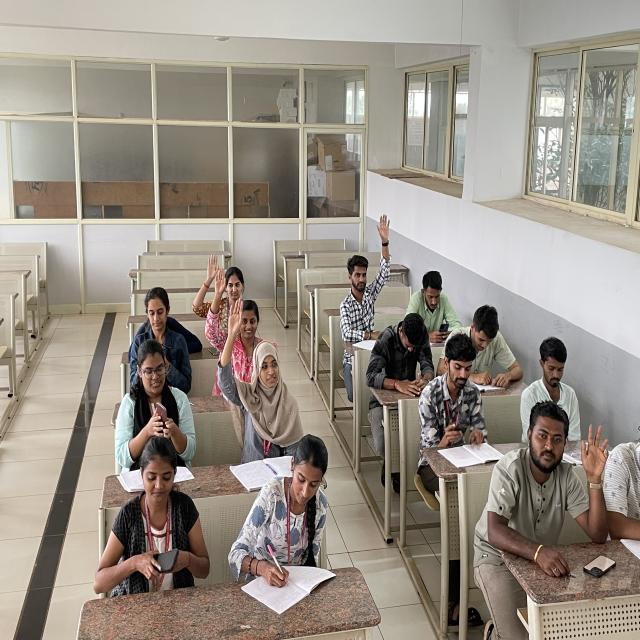Hand Rising: (484, 398, 616, 563), (215, 298, 299, 463), (340, 210, 396, 356), (192, 251, 245, 352)
Reading: (366, 306, 436, 400), (465, 300, 524, 398)
Using Phone: (95, 436, 215, 602), (111, 340, 199, 479), (417, 330, 492, 447), (519, 330, 588, 432), (126, 286, 190, 370), (408, 268, 464, 350)
Writing: (231, 425, 346, 611)
